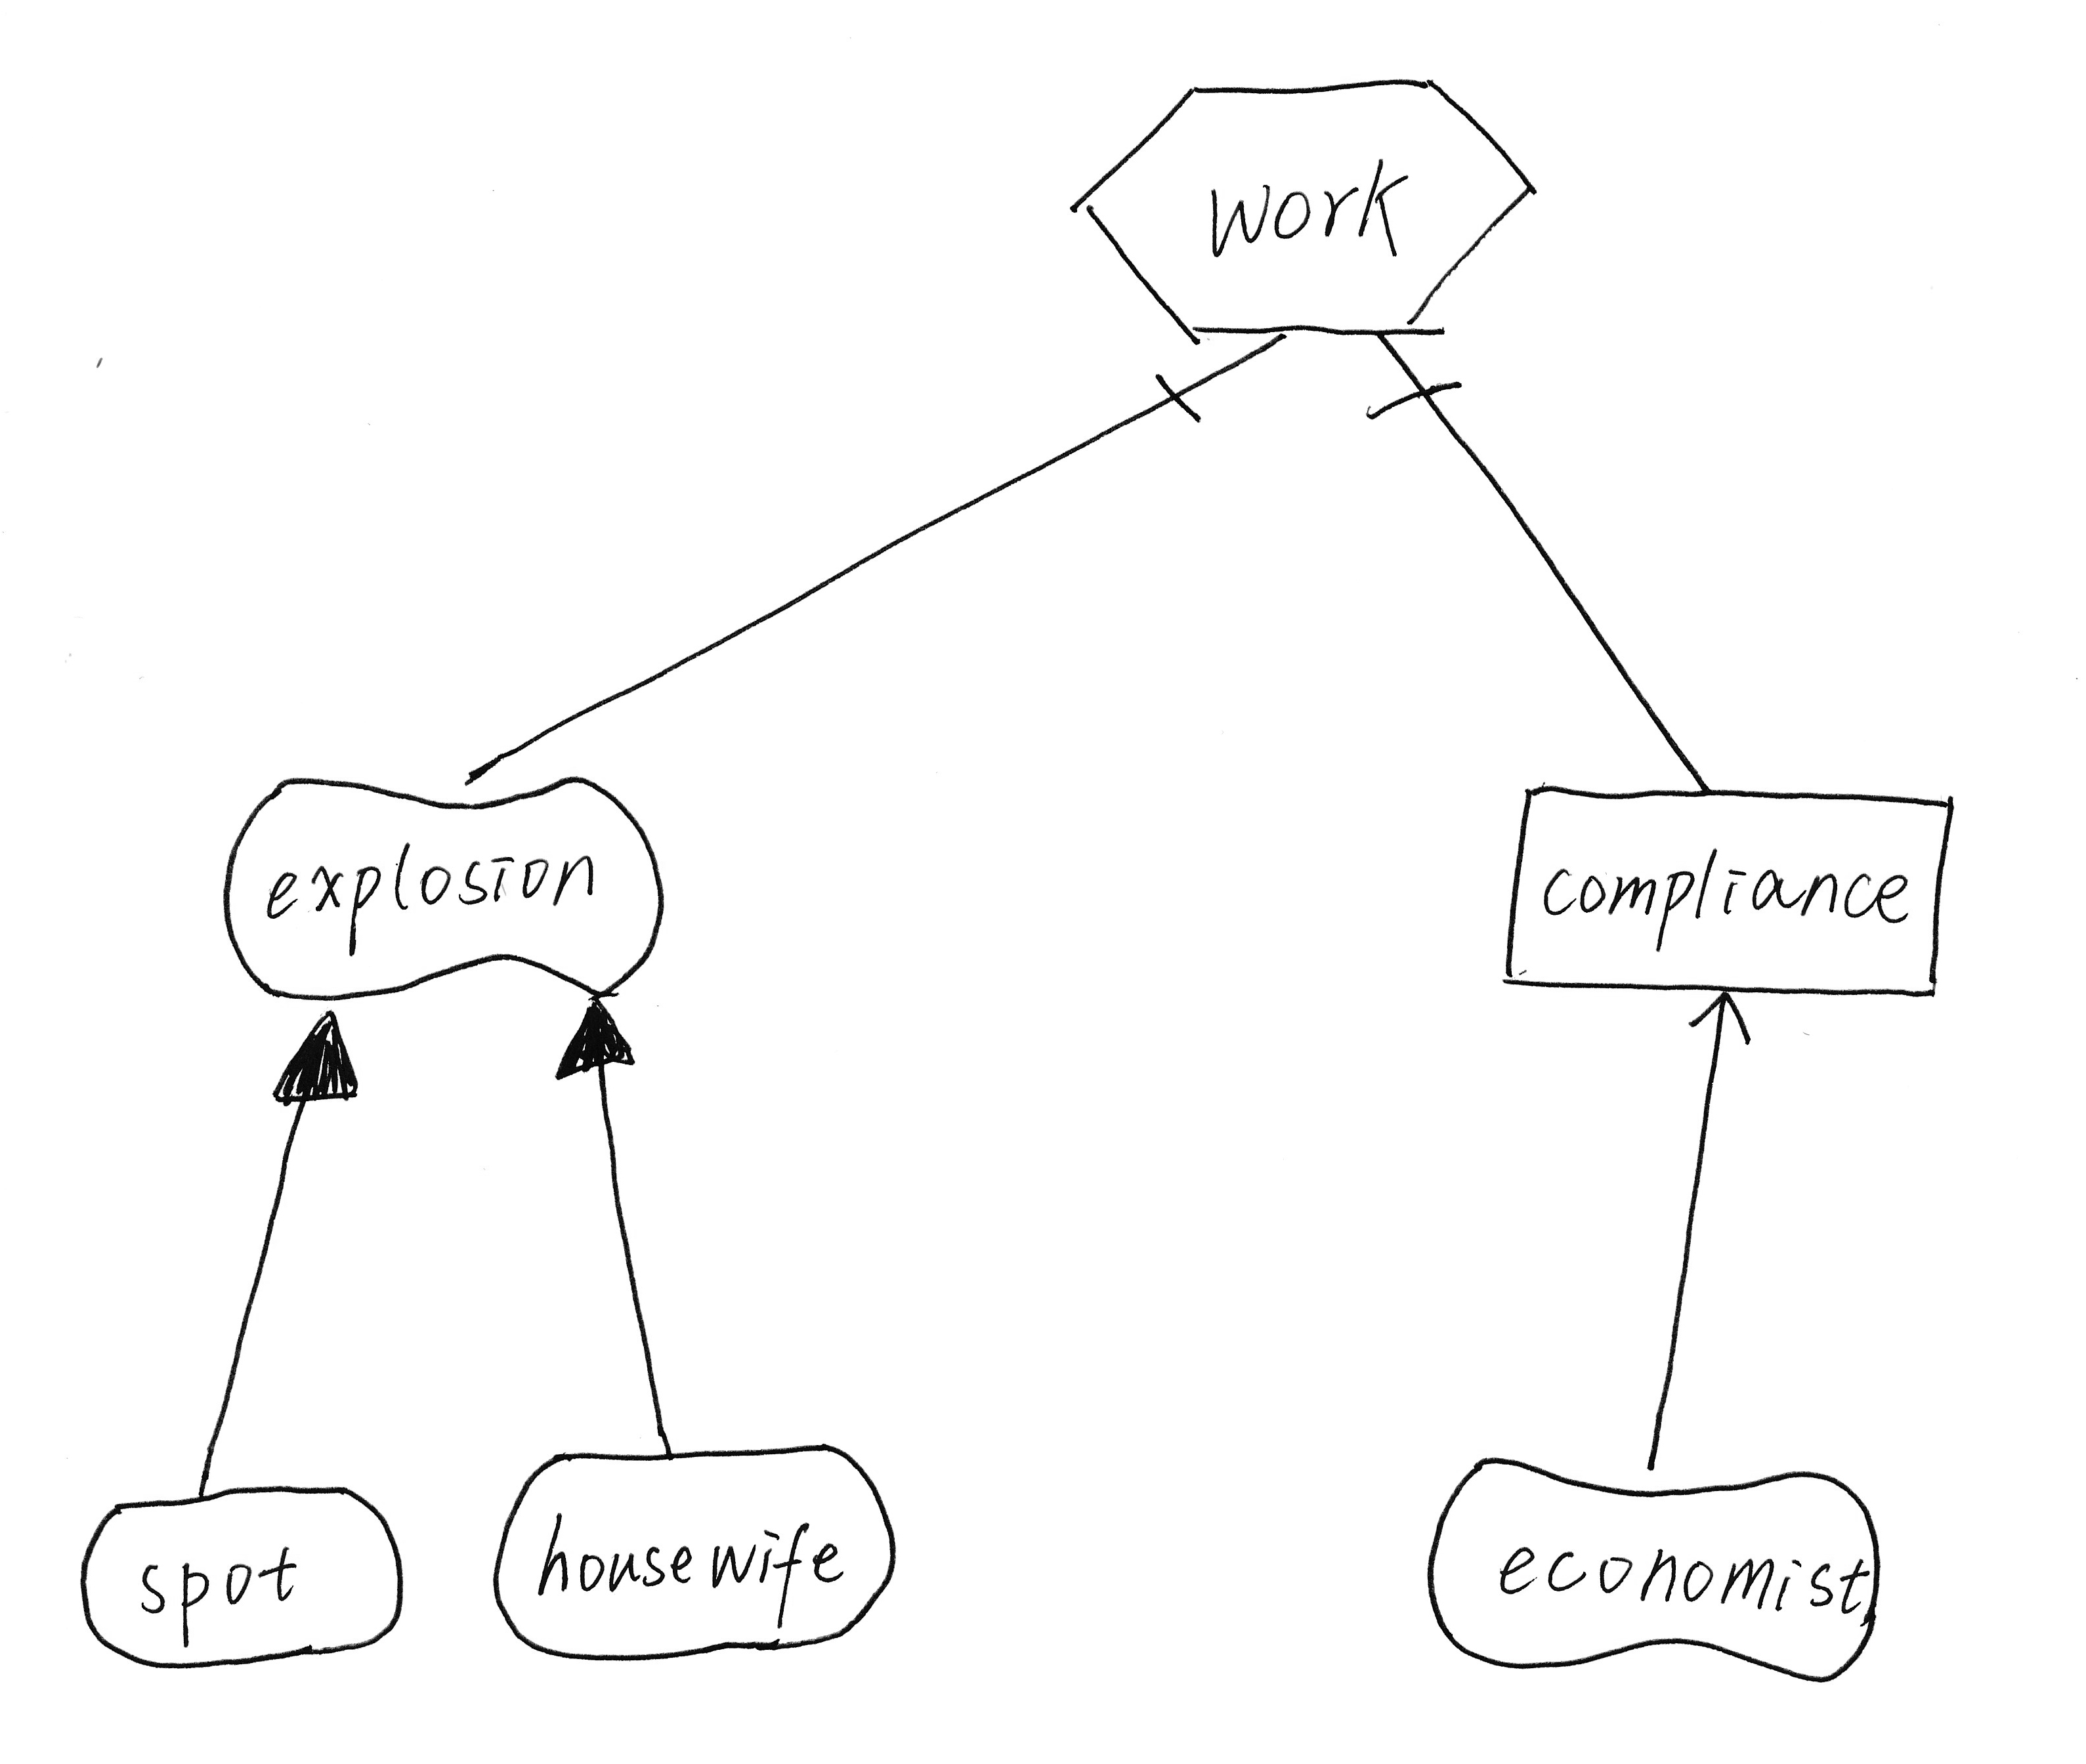and: (1144, 318, 1298, 436), (1353, 315, 1482, 437)
arrow: (1675, 975, 1783, 1069)
goal: (472, 1423, 924, 1673), (58, 1454, 431, 1685)
or: (250, 987, 374, 1125), (535, 980, 658, 1099)
quality: (1407, 1421, 1907, 1701), (203, 752, 686, 1024)
resource: (1477, 752, 1985, 1036)
task: (1053, 59, 1557, 360)
